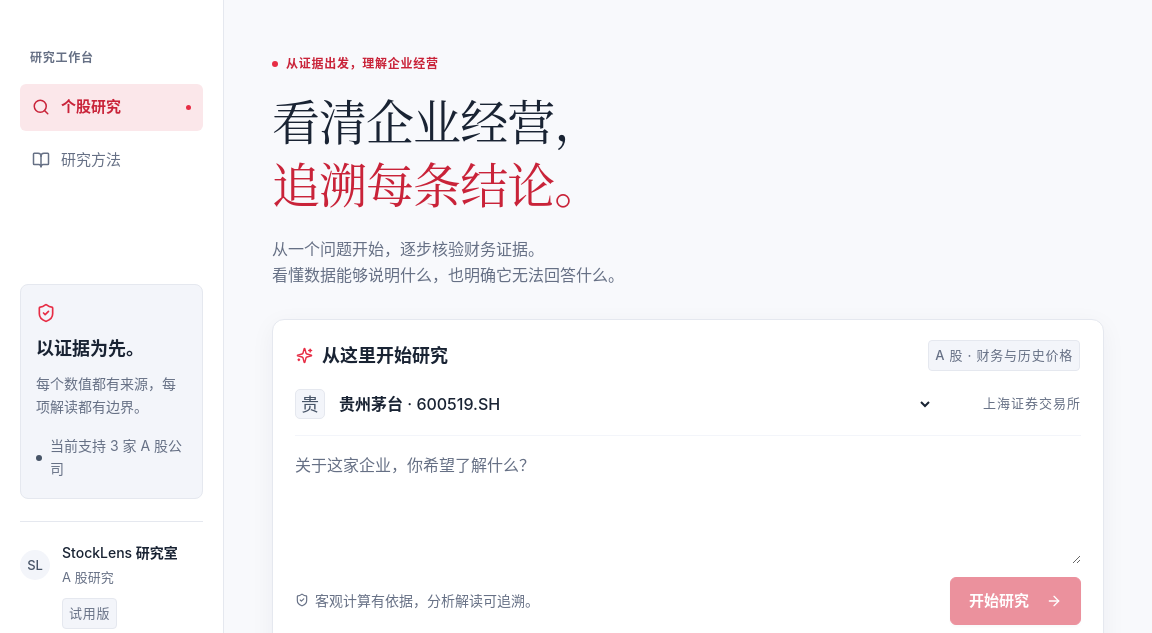
Test: Historical price research › shows price fields, rounds summaries and opens source evidence
The width and height of the screenshot is (1152, 633).
Type "Compare growth" into the text box named "研究问题" at (688, 508), box [295, 452, 1081, 564]
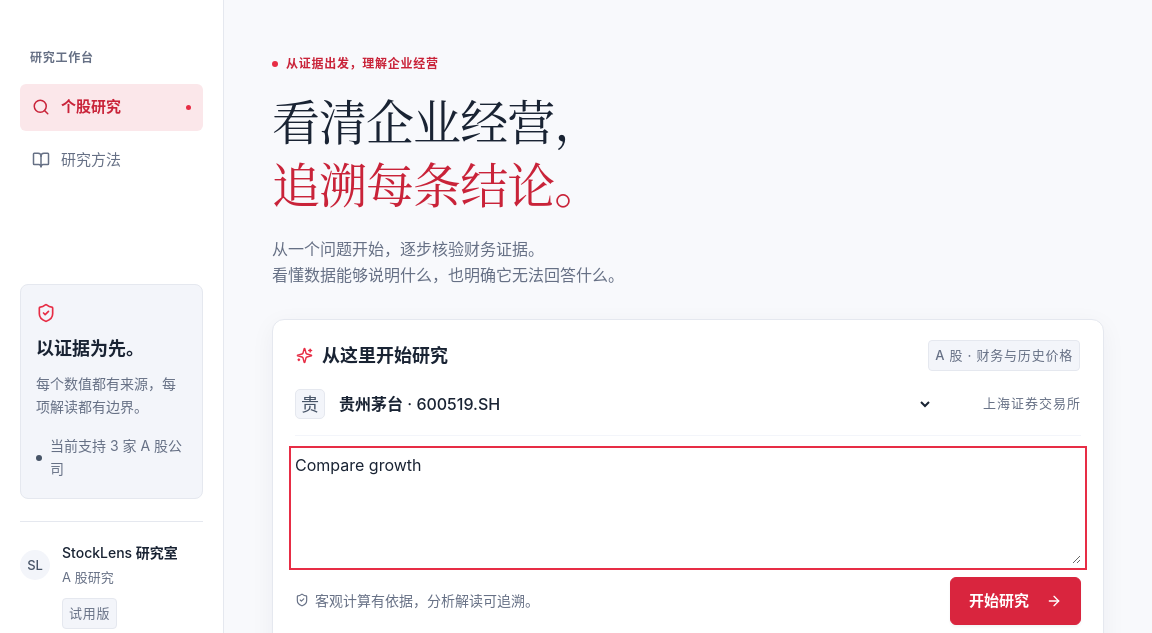
Click the button "开始研究" at (1016, 601), box [950, 576, 1081, 625]
(page scrolled)
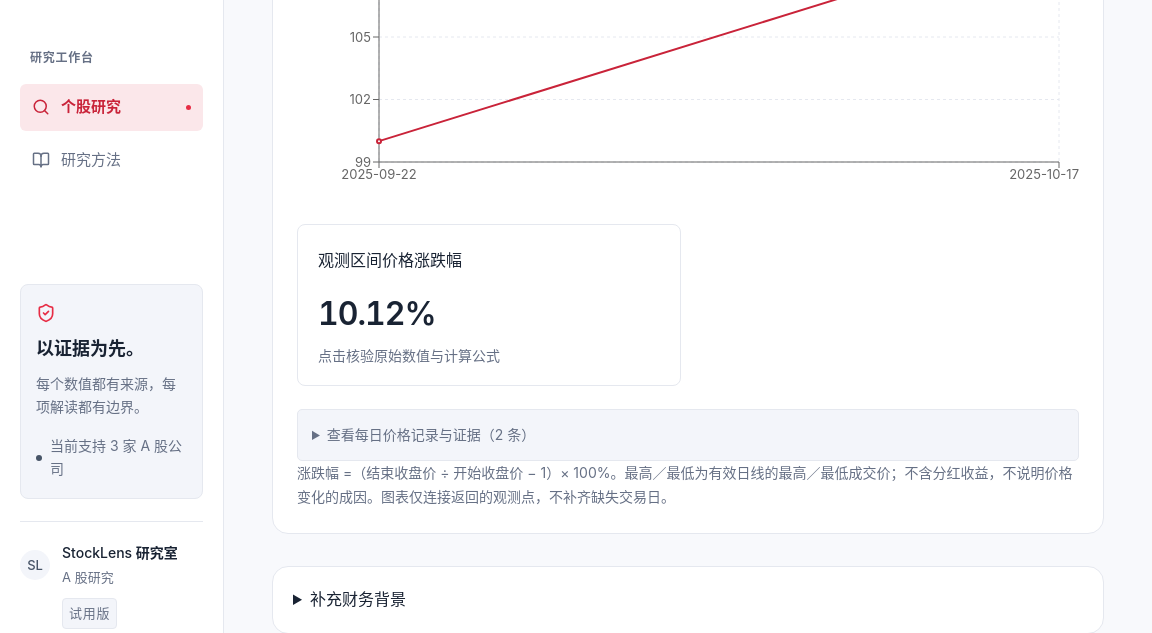
Click the button "观测区间价格涨跌幅 10.12% 点击核验原始数值与计算公式" at (390, 260), box [297, 224, 681, 386]
(page scrolled)
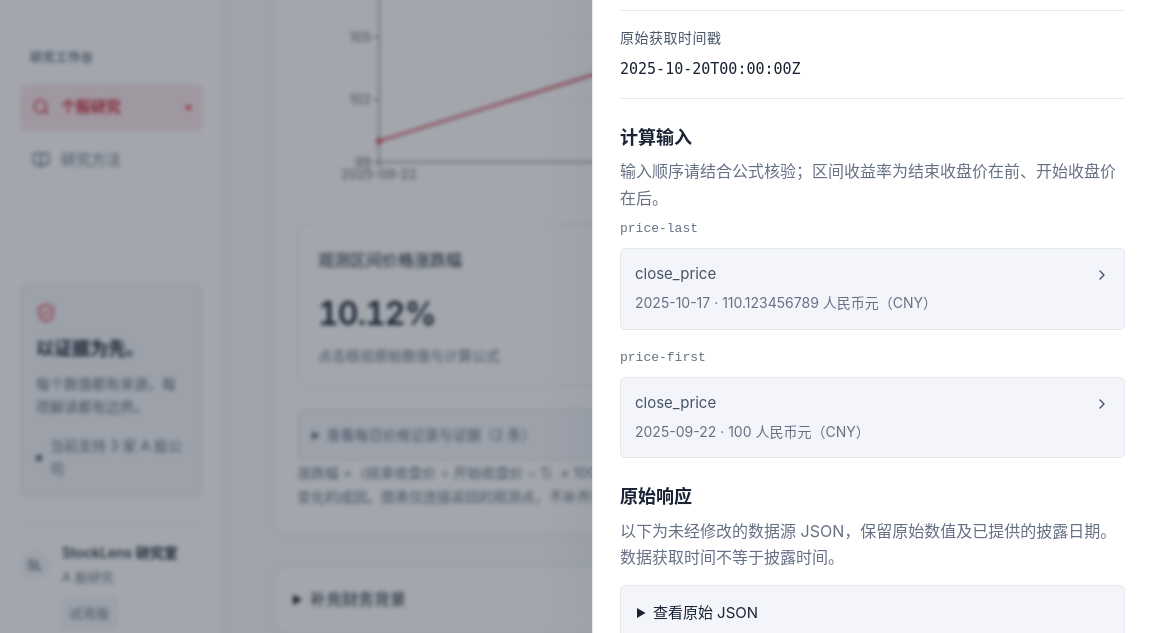
Click the button "close_price 2025-10-17 · 110.123456789 人民币元（CNY）" at (676, 273), box [620, 248, 1125, 330]
(page scrolled)
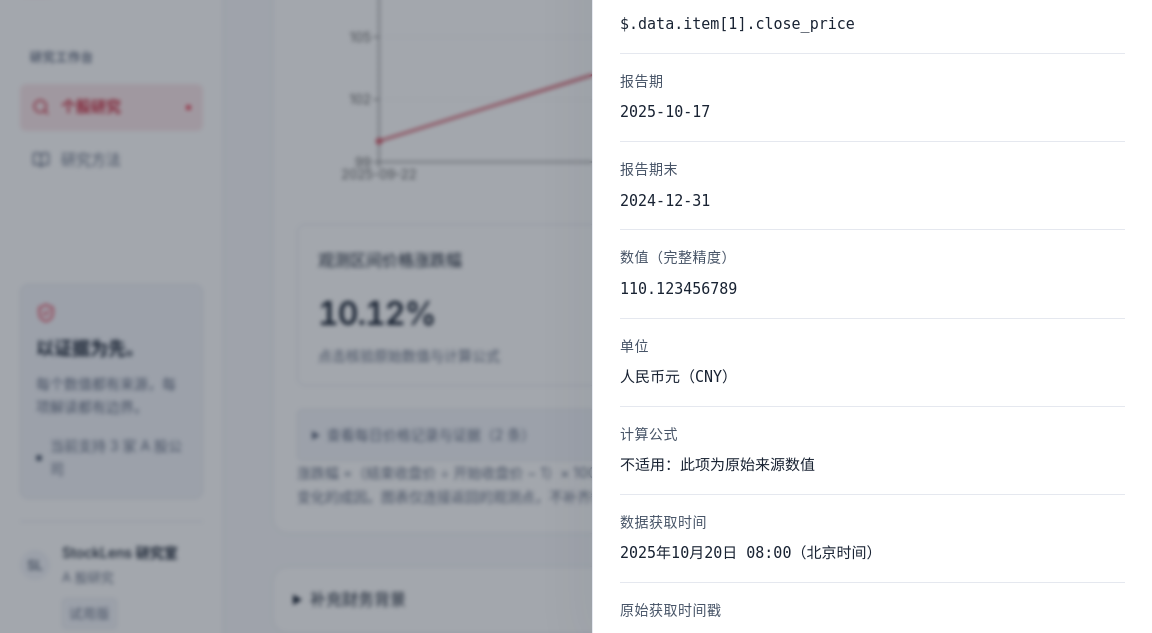
Expected: the text "110.123456789" is shown, [620, 280, 737, 298]
Expected: the text "$.data.item[1].close_price" is shown, [620, 15, 855, 33]
